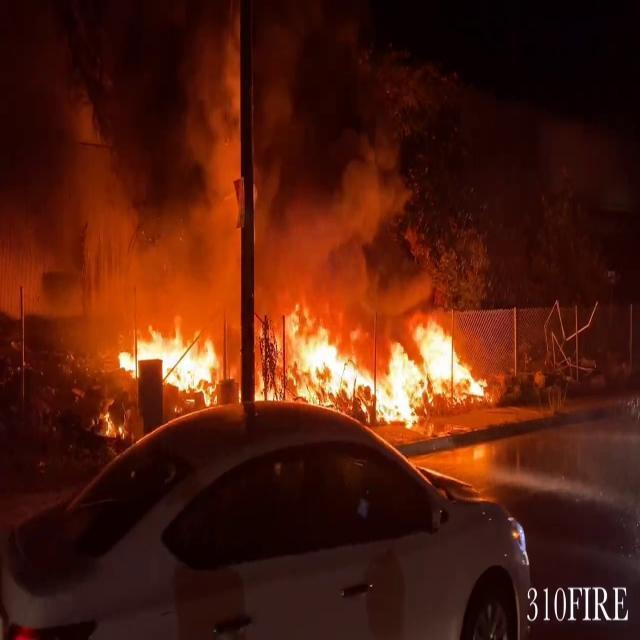Fire: (124, 307, 493, 433)
Smoke: (3, 0, 389, 308)
